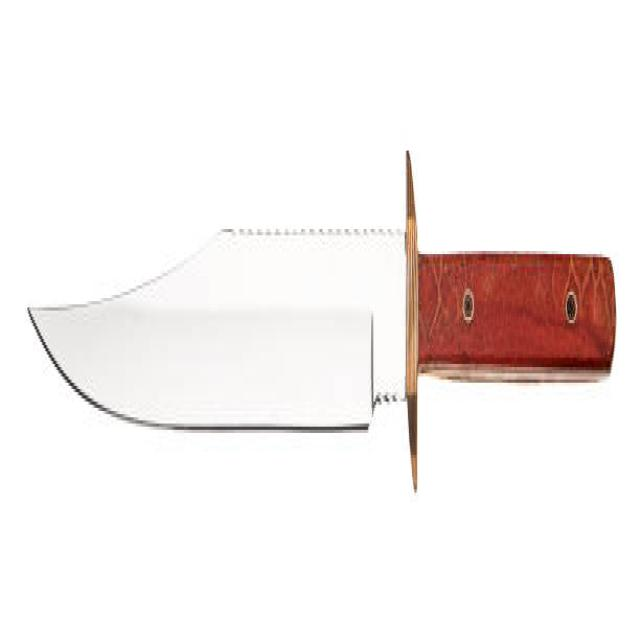knife: (20, 125, 620, 526)
